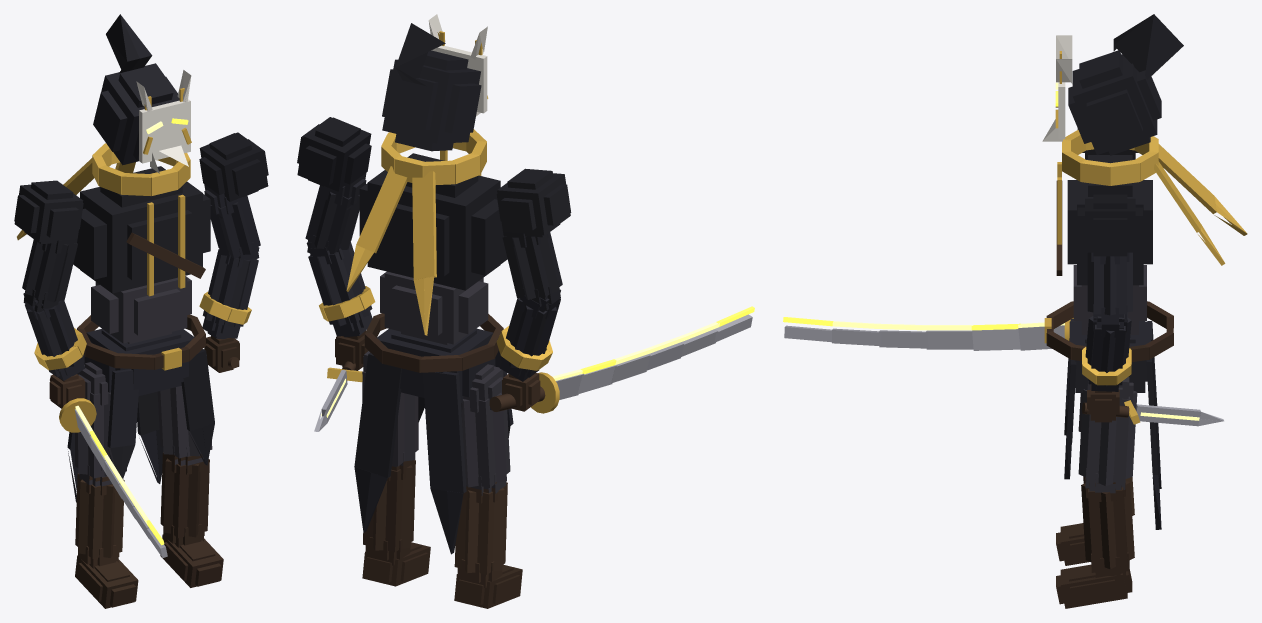
The picture shows the model from 3 angles, left to right: view 1: azimuth 30°, elevation 25°; view 2: azimuth 150°, elevation 25°; view 3: azimuth 270°, elevation 25°; orthographic projection. The views are drawn at different scales.
Parts seen in each view (by area): view 1: RivalHunter; view 2: RivalHunter; view 3: RivalHunter.
Boxes of the visible parts, x1=… form: RivalHunter: x1=14, y1=14, x2=268, y2=608; RivalHunter: x1=297, y1=14, x2=754, y2=608; RivalHunter: x1=783, y1=14, x2=1247, y2=608.
Size of the model in its own units: 0.7464 by 1.52 by 1.13.
